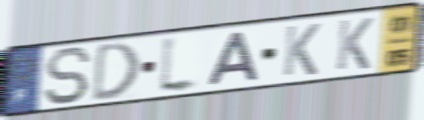A: (205, 29, 262, 88)
D: (90, 39, 142, 105)
K: (280, 22, 322, 79), (333, 16, 375, 73)
L: (156, 32, 202, 97)
S: (42, 45, 94, 107)
